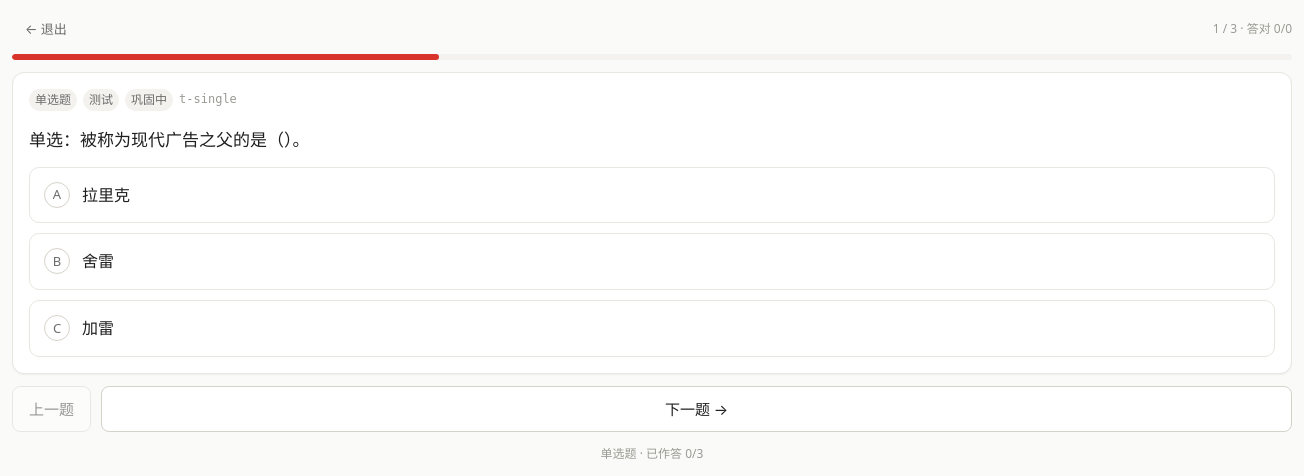
Test: 滑动手势 · 不能把点击翻页吃掉 › 在「上一题」按钮上点按并左移，不应被误判成前进
Click the button "下一题 →".
click(696, 408)  # box [101, 386, 1292, 432]
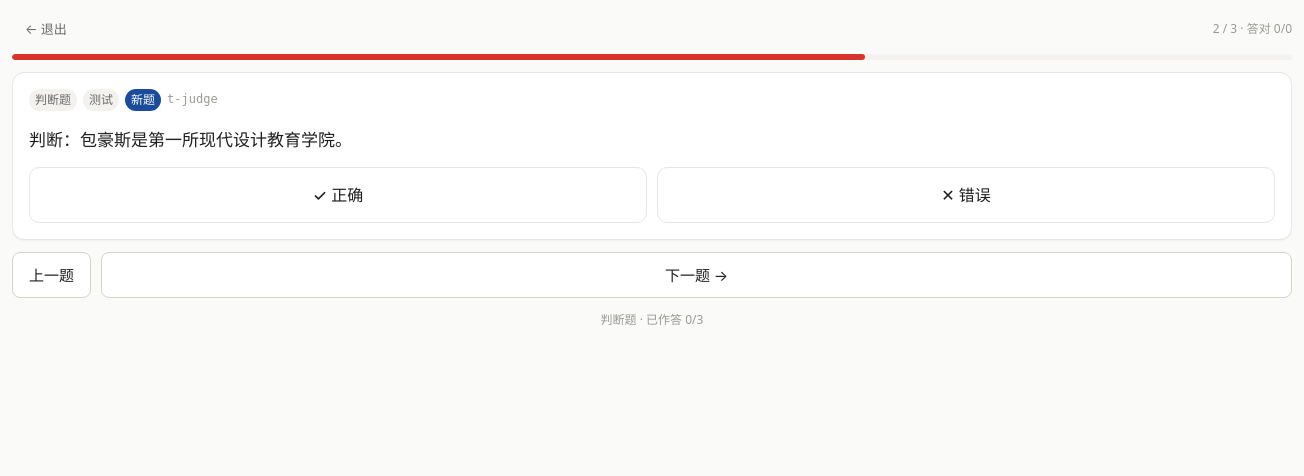
Result: the text "2 / 3 · 答对 0/0" is shown at [1213, 19, 1292, 39]
Click the button "上一题".
click(52, 275)  # box [12, 252, 91, 298]
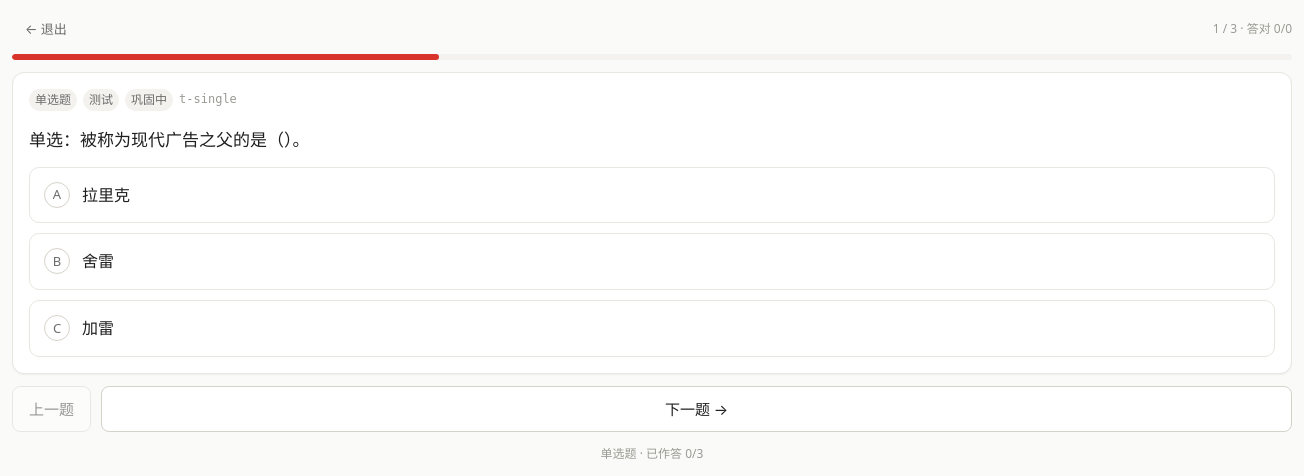
Result: the text "1 / 3 · 答对 0/0" is shown at [1213, 19, 1292, 39]
